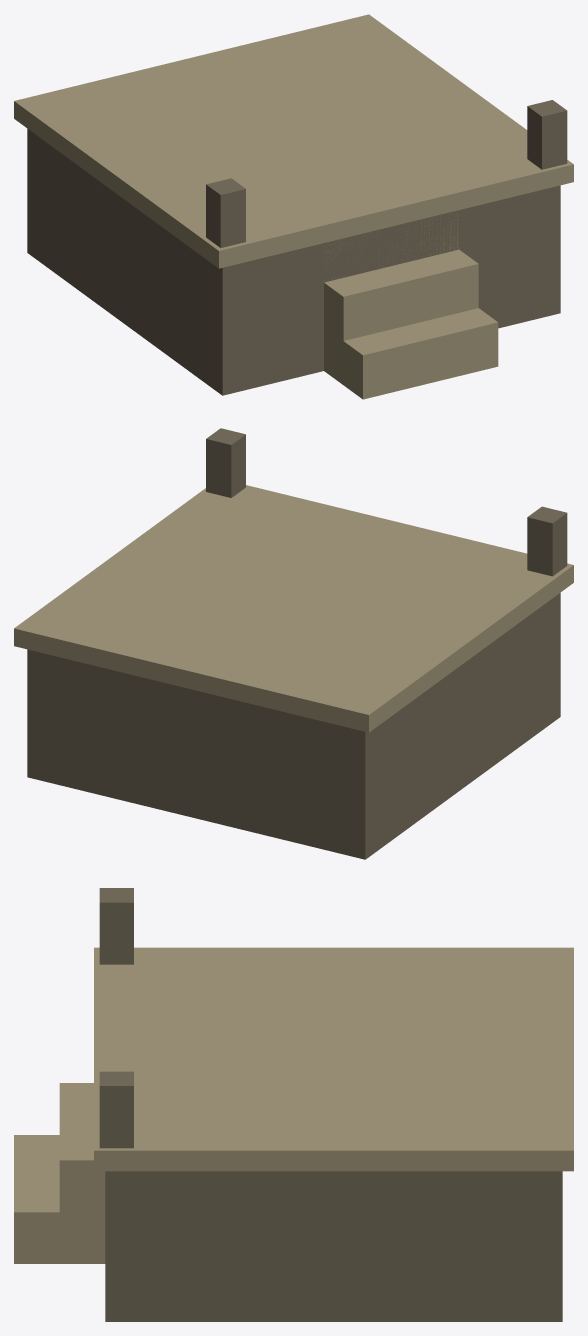
The model's file is temple_platform.glb.
3 renders of one model, top to bottom at view 1: azimuth 30°, elevation 25°; view 2: azimuth 150°, elevation 25°; view 3: azimuth 270°, elevation 25°, orthographic. The views are drawn at different scales.
Parts seen in each view (by area): view 1: stone_temple-col, stone_temple_dark-col; view 2: stone_temple-col, stone_temple_dark-col; view 3: stone_temple-col, stone_temple_dark-col.
Boxes of the visible parts, bbox=[...] form: stone_temple-col: bbox=[14, 14, 573, 399]; stone_temple_dark-col: bbox=[27, 100, 567, 395]; stone_temple-col: bbox=[14, 485, 573, 732]; stone_temple_dark-col: bbox=[27, 428, 567, 859]; stone_temple-col: bbox=[14, 947, 573, 1263]; stone_temple_dark-col: bbox=[99, 888, 562, 1321].
Bounding box in the file's own units: 4.2 × 2.3 × 4.9.
